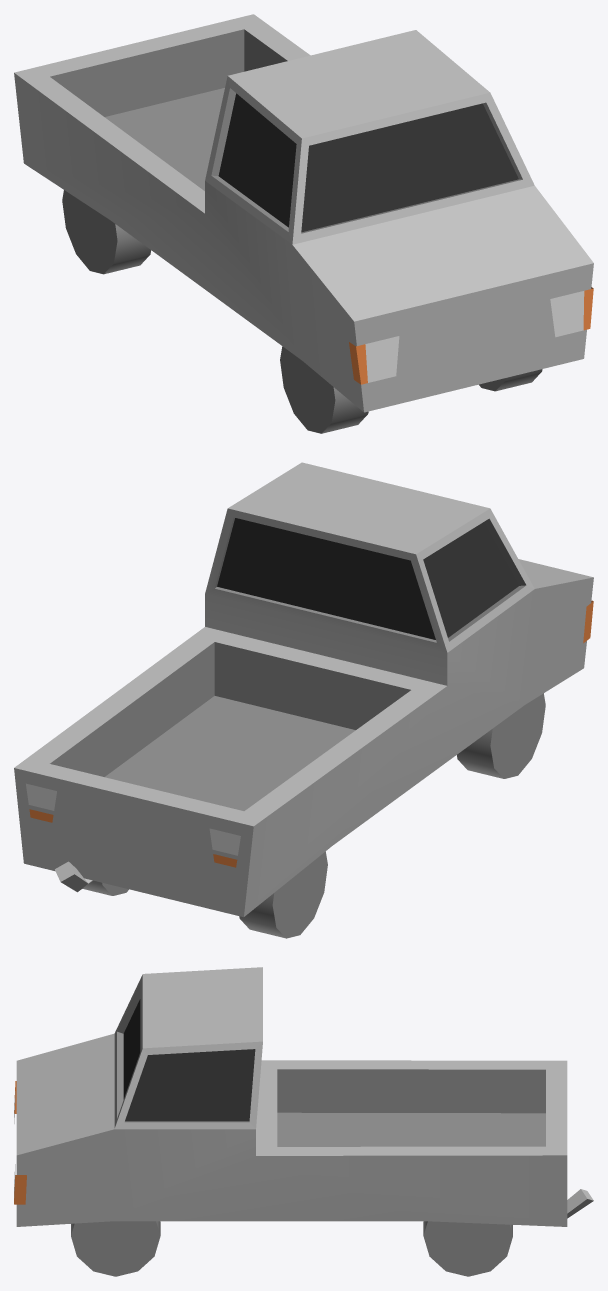
The model's file is pickup_08.fbx.
3 renders of one model, top to bottom at view 1: azimuth 30°, elevation 25°; view 2: azimuth 150°, elevation 25°; view 3: azimuth 270°, elevation 25°, orthographic. The views are drawn at different scales.
Parts seen in each view (by area): view 1: pickup_08; view 2: pickup_08; view 3: pickup_08.
Part boxes in pixels (box(x1,y1,x2,y2)): pickup_08: box(14, 14, 593, 433); pickup_08: box(14, 462, 593, 938); pickup_08: box(14, 967, 593, 1276).
Bounding box in the file's own units: 1.6 × 1.8 × 4.1.
